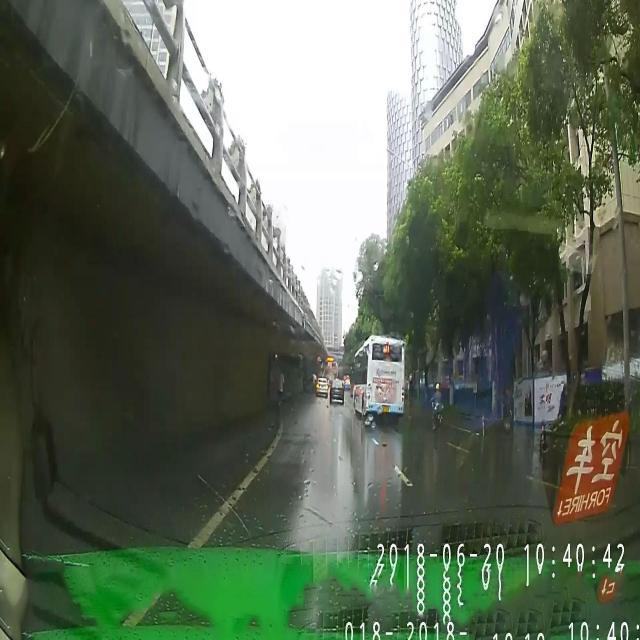car: (328, 375, 344, 407), (316, 374, 328, 397)
